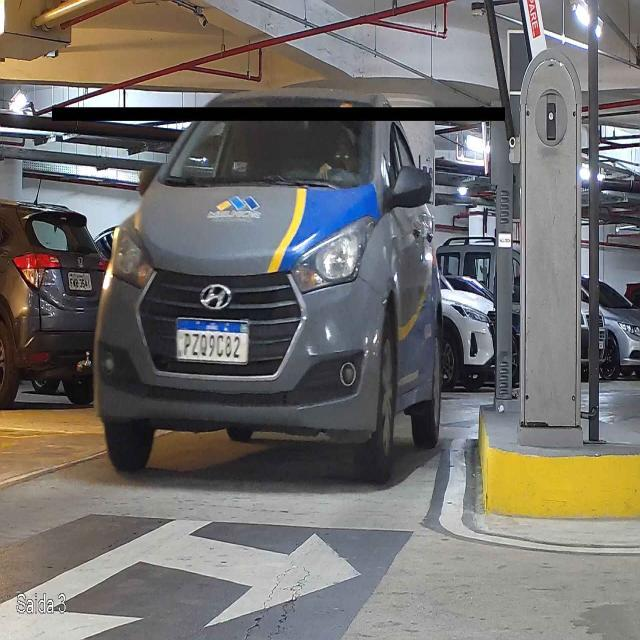mercosul_plate: (174, 316, 251, 367)
